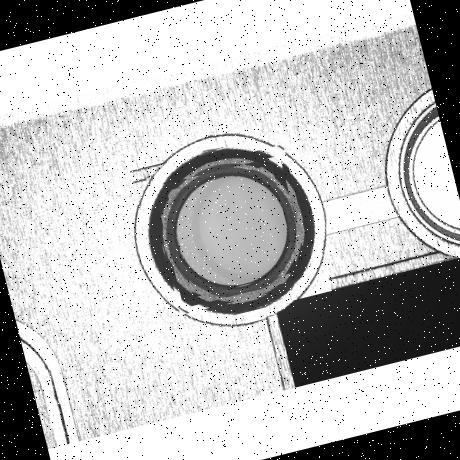Hole: (128, 129, 332, 331)
Hole2: (144, 143, 317, 315)
Hole3: (154, 153, 308, 308)
Hole4: (166, 165, 298, 296)
